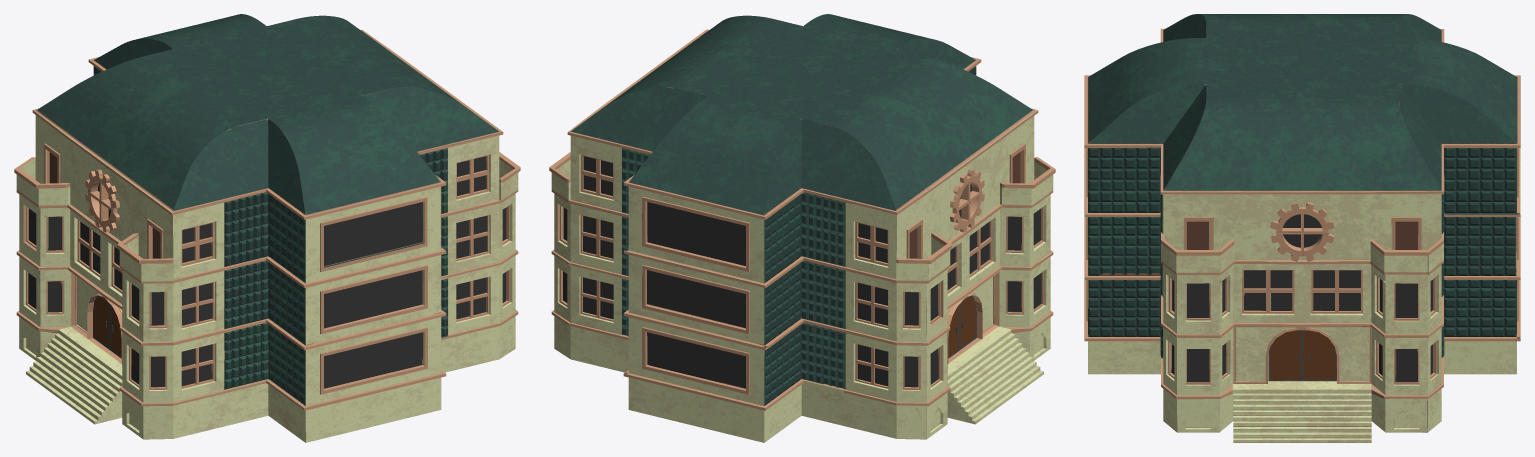
The model's file is SCANTUM.fbx.
3 renders of one model, left to right at view 1: azimuth 30°, elevation 25°; view 2: azimuth 150°, elevation 25°; view 3: azimuth 270°, elevation 25°, orthographic.
Parts seen in each view (by area): view 1: Cube; view 2: Cube; view 3: Cube.
Part boxes in pixels (x1=…): Cube: x1=14, y1=14, x2=520, y2=442; Cube: x1=549, y1=14, x2=1055, y2=442; Cube: x1=1084, y1=14, x2=1520, y2=442.
Bounding box in the file's own units: 22527 × 14365 × 20322.
Materials: 1 (1 with a texture image).
